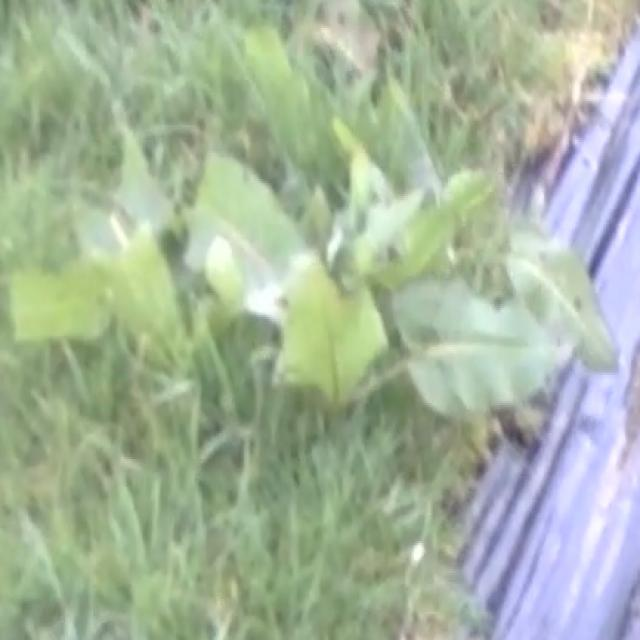organic waste: (7, 85, 604, 479)
